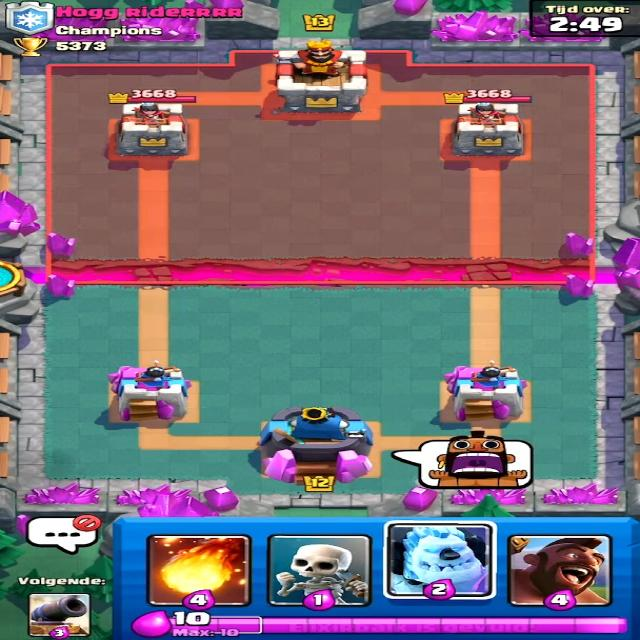Fireball_Card: (145, 535, 247, 605)
Hog_Rider_Card: (510, 536, 613, 607)
Ice_Golem_Card: (390, 526, 490, 595)
Skeleton_Card: (272, 538, 362, 606)
